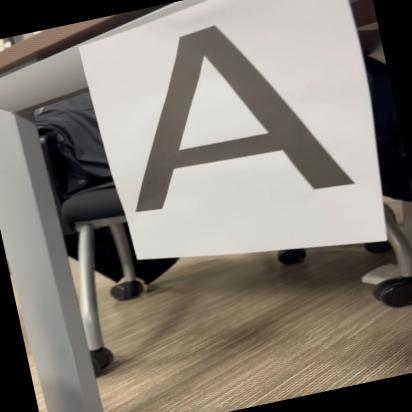seat: (98, 0, 362, 236)
